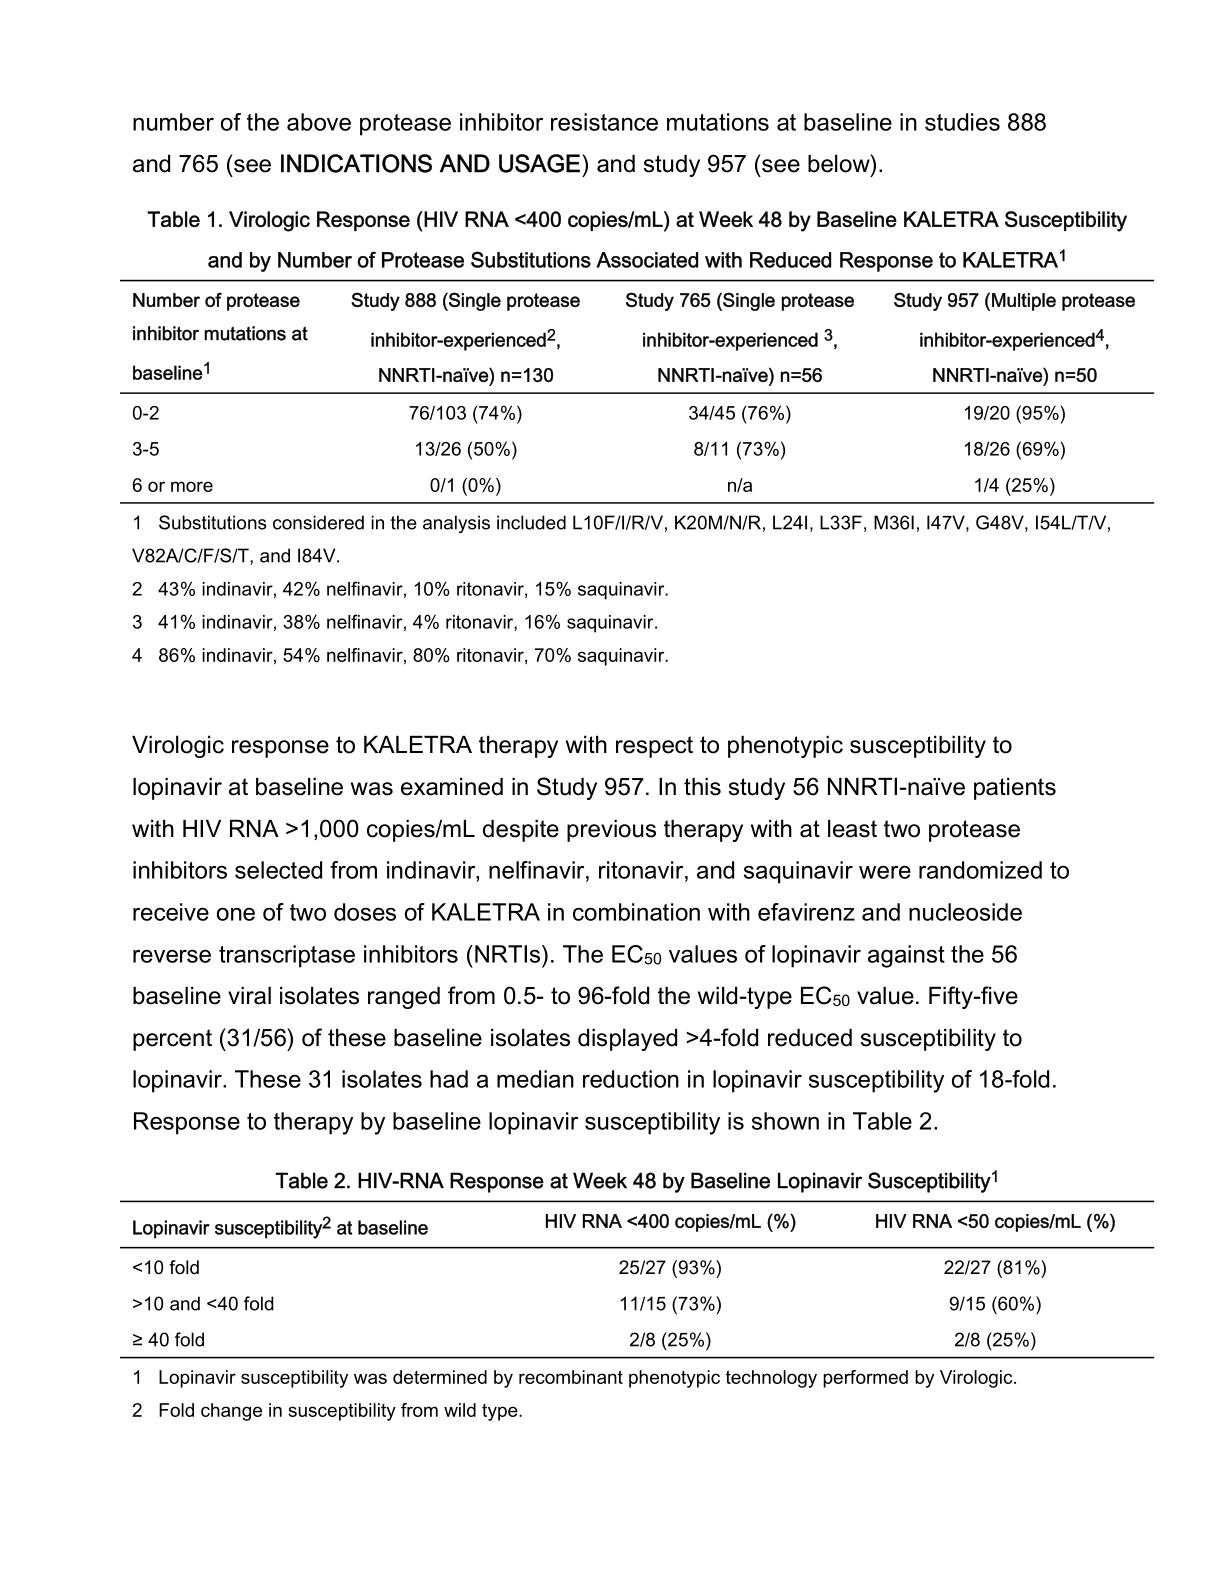partial_lined: (120, 275, 1155, 507), (120, 1198, 1156, 1362)
